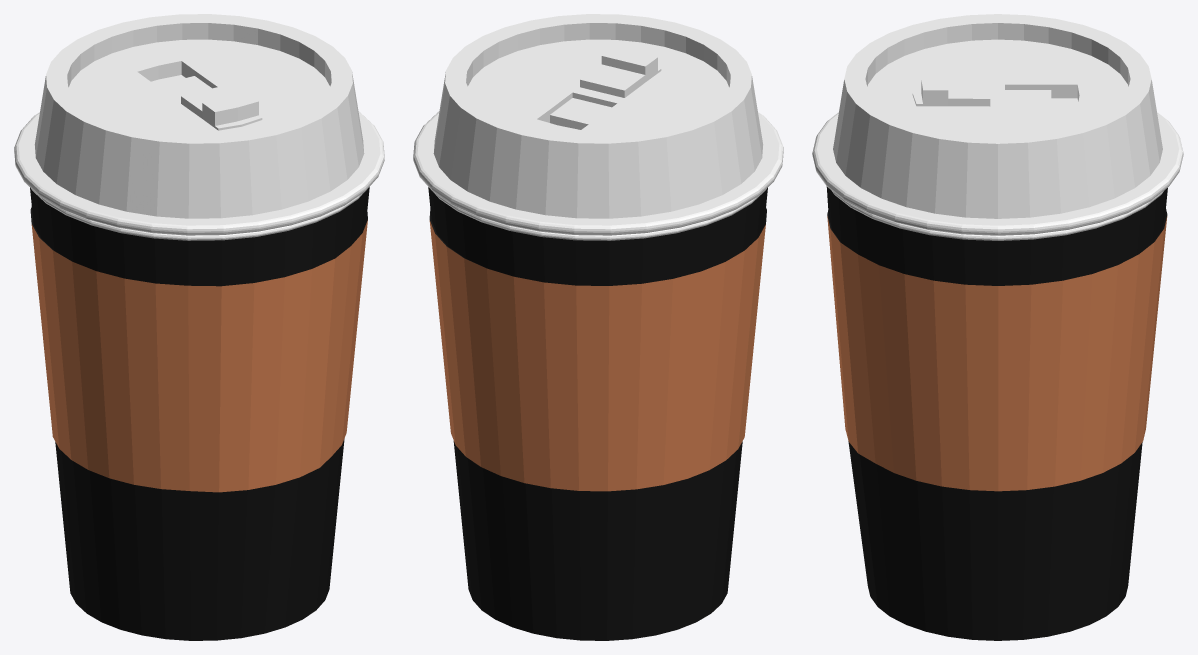
The model's file is CoffeeCup.fbx.
The picture shows the model from 3 angles, left to right: view 1: azimuth 30°, elevation 25°; view 2: azimuth 150°, elevation 25°; view 3: azimuth 270°, elevation 25°; orthographic projection.
Parts seen in each view (by area): view 1: 円; view 2: 円; view 3: 円.
Part boxes in pixels (x1,y1,x2,y2): 円: [14, 14, 384, 640]; 円: [413, 14, 783, 640]; 円: [812, 14, 1183, 640].
Bounding box in the file's own units: 256 × 386 × 256.
